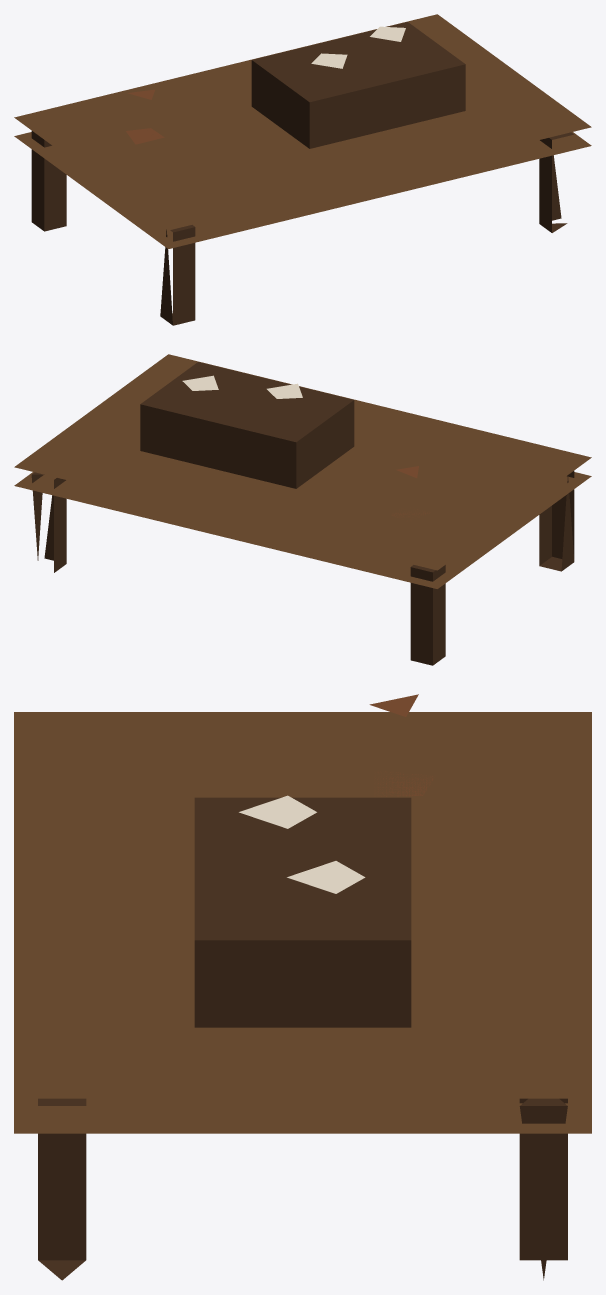
File: prop_pyeongsang_lod1.glb
3 renders of one model, top to bottom at view 1: azimuth 30°, elevation 25°; view 2: azimuth 150°, elevation 25°; view 3: azimuth 270°, elevation 25°, orthographic. The views are drawn at different scales.
Visible parts, largest first — view 1: prop_pyeongsang_lod1; view 2: prop_pyeongsang_lod1; view 3: prop_pyeongsang_lod1.
Part boxes in pixels (left/top/right/bottom): prop_pyeongsang_lod1: left=14, top=14, right=591, bottom=325; prop_pyeongsang_lod1: left=14, top=354, right=591, bottom=665; prop_pyeongsang_lod1: left=14, top=694, right=591, bottom=1280.
Bounding box in the file's own units: 1.9 × 0.7 × 1.2.
